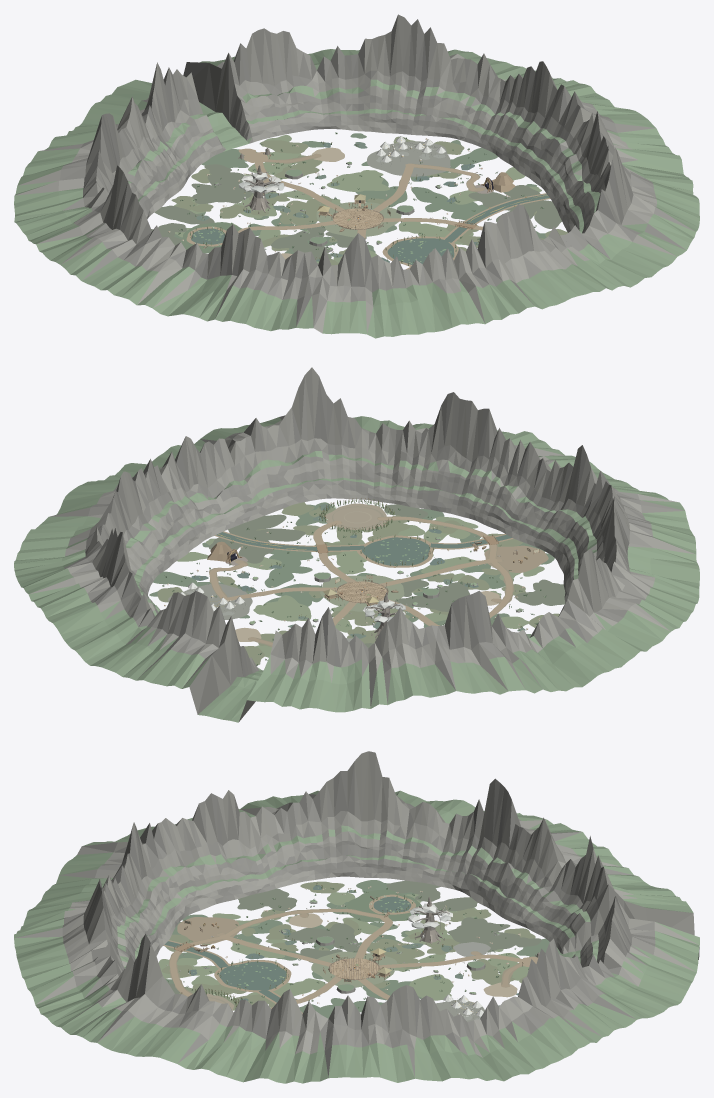
The model's file is map_field_marsh.glb.
The picture shows the model from 3 angles, top to bottom: view 1: azimuth 30°, elevation 25°; view 2: azimuth 150°, elevation 25°; view 3: azimuth 270°, elevation 25°; orthographic projection.
Visible parts, largest first — view 1: Z_field_marsh_penhascos, Z_field_marsh_det_chao_-2_-2, Z_field_marsh_det_chao_1_0, Z_field_marsh_chao_mata_teias, Z_field_marsh_det_chao_0_-2, Z_field_marsh_agua_lagoa_turva, Z_field_marsh_det_chao_-1_-1, Z_field_marsh_det_chao_-1_-3, Z_field_marsh_chao_clareira, Z_field_marsh_det_chao_-1_-2, Z_field_marsh_det_alto_11_0, Z_field_marsh_det_chao_0_-1 (+10 smaller); view 2: Z_field_marsh_penhascos, Z_field_marsh_det_chao_1_0, Z_field_marsh_agua_lagoa_turva, Z_field_marsh_det_chao_0_2, Z_field_marsh_det_chao_-2_0, Z_field_marsh_chao_ponta, Z_field_marsh_det_chao_0_1, Z_field_marsh_det_chao_-1_0, Z_field_marsh_det_chao_1_1, Z_field_marsh_chao_clareira, Z_field_marsh_det_chao_0_-1, Z_field_marsh_chao_mata_teias (+13 smaller); view 3: Z_field_marsh_penhascos, Z_field_marsh_det_chao_-2_0, Z_field_marsh_det_chao_-2_-2, Z_field_marsh_agua_lagoa_turva, Z_field_marsh_det_chao_-1_-2, Z_field_marsh_det_chao_-1_-1, Z_field_marsh_det_chao_0_-2, Z_field_marsh_det_chao_-1_0, Z_field_marsh_det_chao_-3_0, Z_field_marsh_det_chao_-3_-1, Z_field_marsh_chao_clareira, Z_field_marsh_det_alto_11_0 (+14 smaller).
Boxes of the visible parts, bbox=[...] form: Z_field_marsh_penhascos: bbox=[14, 14, 699, 338]; Z_field_marsh_det_chao_-2_-2: bbox=[164, 183, 252, 224]; Z_field_marsh_det_chao_1_0: bbox=[384, 187, 543, 236]; Z_field_marsh_chao_mata_teias: bbox=[367, 141, 450, 176]; Z_field_marsh_det_chao_0_-2: bbox=[274, 153, 383, 187]; Z_field_marsh_agua_lagoa_turva: bbox=[387, 238, 454, 264]; Z_field_marsh_det_chao_-1_-1: bbox=[256, 195, 340, 230]; Z_field_marsh_det_chao_-1_-3: bbox=[201, 149, 294, 175]; Z_field_marsh_chao_clareira: bbox=[316, 202, 401, 237]; Z_field_marsh_det_chao_-1_-2: bbox=[207, 165, 339, 206]; Z_field_marsh_det_alto_11_0: bbox=[238, 165, 284, 213]; Z_field_marsh_det_chao_0_-1: bbox=[327, 171, 412, 206]; Z_field_marsh_penhascos: bbox=[14, 367, 699, 722]; Z_field_marsh_det_chao_1_0: bbox=[232, 521, 355, 582]; Z_field_marsh_agua_lagoa_turva: bbox=[362, 537, 430, 565]; Z_field_marsh_det_chao_0_2: bbox=[332, 504, 478, 542]; Z_field_marsh_det_chao_-2_0: bbox=[424, 562, 514, 620]; Z_field_marsh_chao_ponta: bbox=[325, 503, 387, 530]; Z_field_marsh_det_chao_0_1: bbox=[332, 521, 436, 565]; Z_field_marsh_det_chao_-1_0: bbox=[394, 568, 465, 607]; Z_field_marsh_det_chao_1_1: bbox=[293, 502, 362, 545]; Z_field_marsh_chao_clareira: bbox=[320, 575, 404, 611]; Z_field_marsh_det_chao_0_-1: bbox=[237, 583, 323, 621]; Z_field_marsh_chao_mata_teias: bbox=[168, 583, 252, 619]; Z_field_marsh_penhascos: bbox=[14, 751, 699, 1083]; Z_field_marsh_det_chao_-2_0: bbox=[225, 902, 383, 942]; Z_field_marsh_det_chao_-2_-2: bbox=[419, 901, 510, 943]; Z_field_marsh_agua_lagoa_turva: bbox=[219, 961, 286, 990]; Z_field_marsh_det_chao_-1_-2: bbox=[391, 932, 523, 968]; Z_field_marsh_det_chao_-1_-1: bbox=[354, 919, 424, 971]; Z_field_marsh_det_chao_0_-2: bbox=[414, 959, 514, 1000]; Z_field_marsh_det_chao_-1_0: bbox=[265, 937, 360, 962]; Z_field_marsh_det_chao_-3_0: bbox=[263, 881, 356, 910]; Z_field_marsh_det_chao_-3_-1: bbox=[356, 880, 440, 902]; Z_field_marsh_chao_clareira: bbox=[311, 951, 396, 987]; Z_field_marsh_det_alto_11_0: bbox=[408, 896, 452, 944].
Bounding box in the file's own units: 327 × 58.9 × 327.
